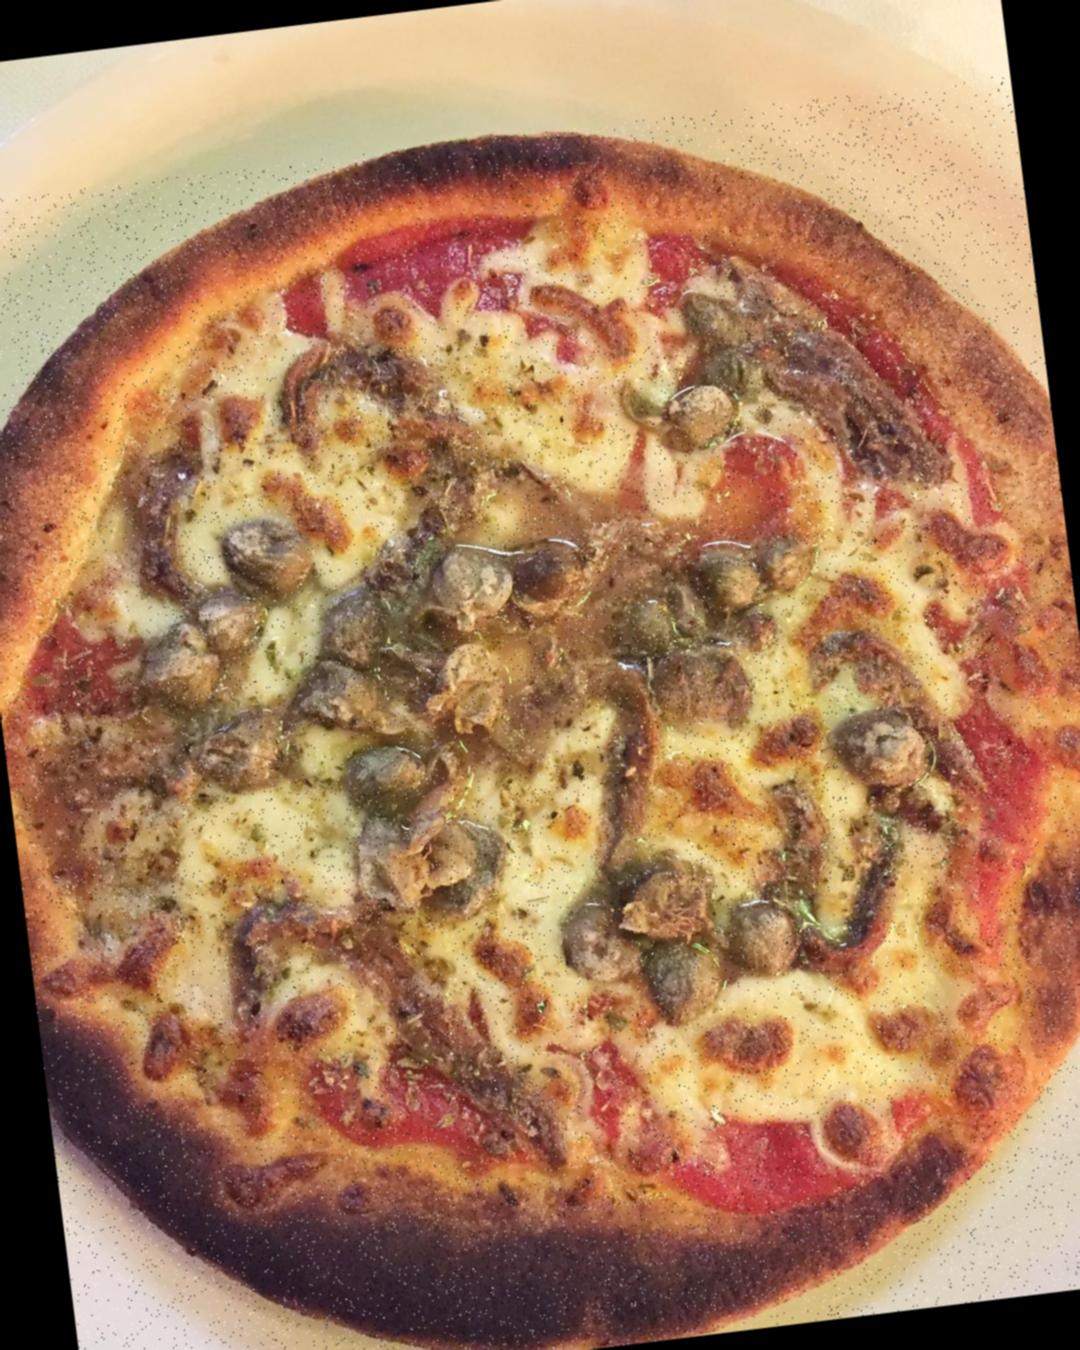Pizza: (0, 74, 1080, 1350)
